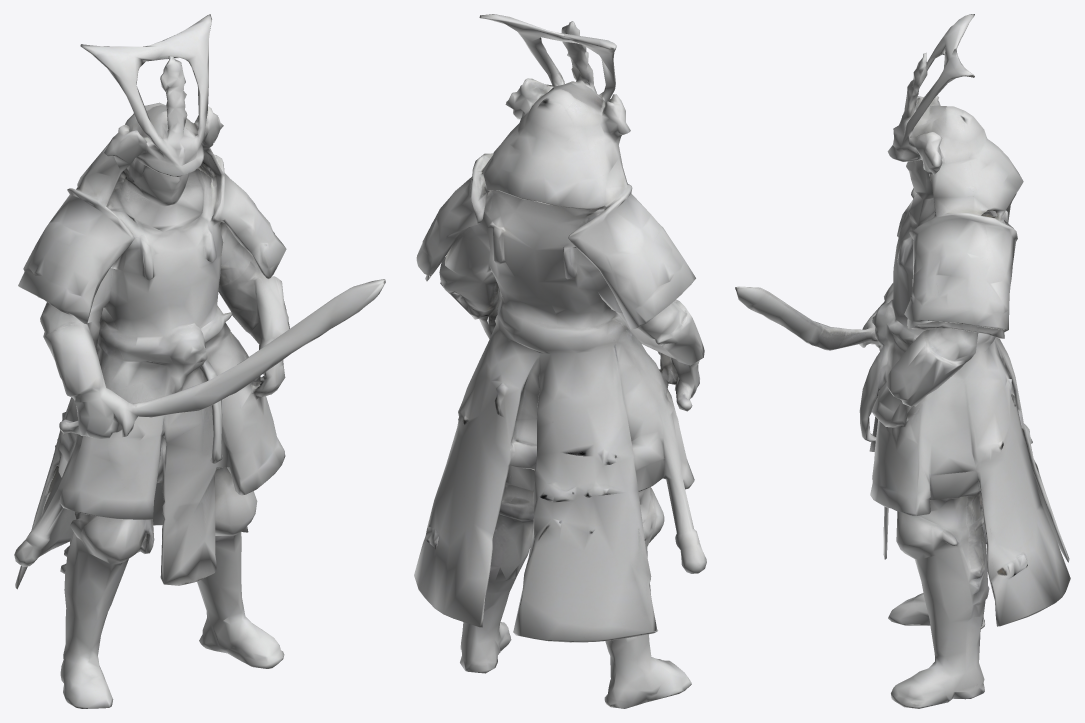
File: King.fbx
3 renders of one model, left to right at view 1: azimuth 30°, elevation 25°; view 2: azimuth 150°, elevation 25°; view 3: azimuth 270°, elevation 25°, orthographic. The views are drawn at different scales.
Parts seen in each view (by area): view 1: Mesh_0; view 2: Mesh_0; view 3: Mesh_0.
Boxes of the visible parts, bbox=[...] form: Mesh_0: bbox=[14, 14, 385, 708]; Mesh_0: bbox=[414, 14, 706, 708]; Mesh_0: bbox=[735, 14, 1070, 708].
Bounding box in the file's own units: 86.24 × 200 × 99.02.
Materials: 1 (1 with a texture image).
